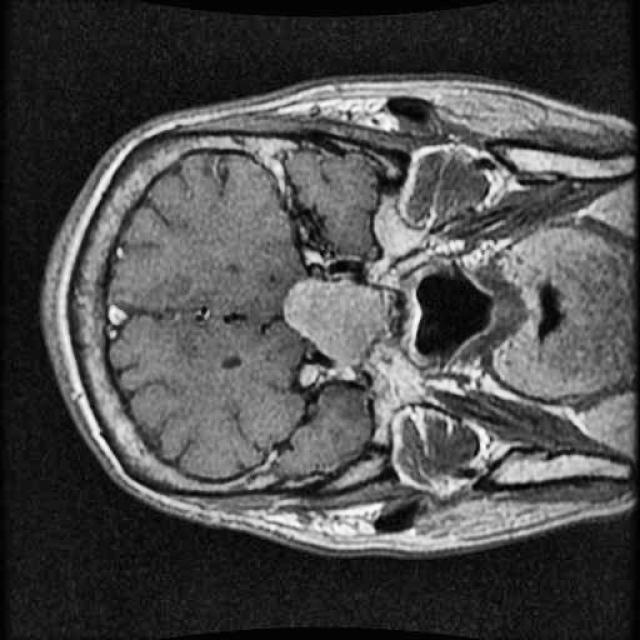Tumor: (271, 269, 404, 382)
